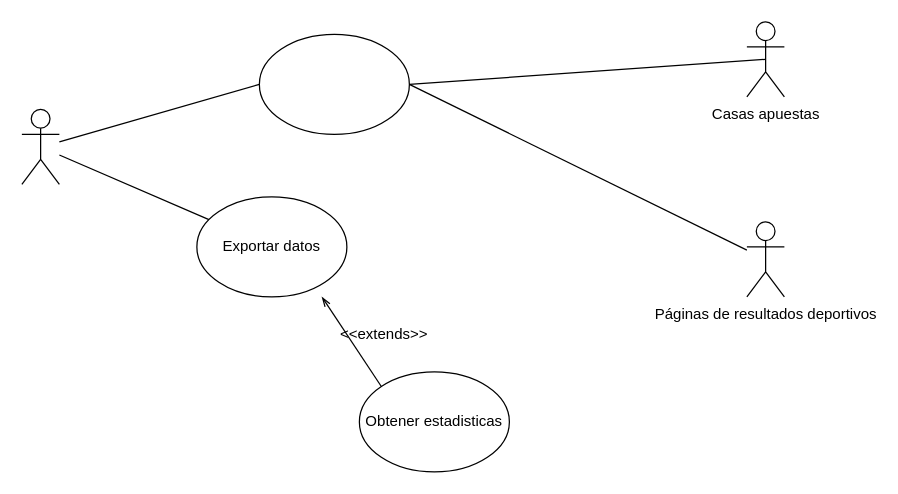
This 898x494 diagram has some shape labels left out. Each missing label, with the box of its shape:
Actor: (21, 108, 59, 184)
Obtener datos: (258, 33, 409, 134)
